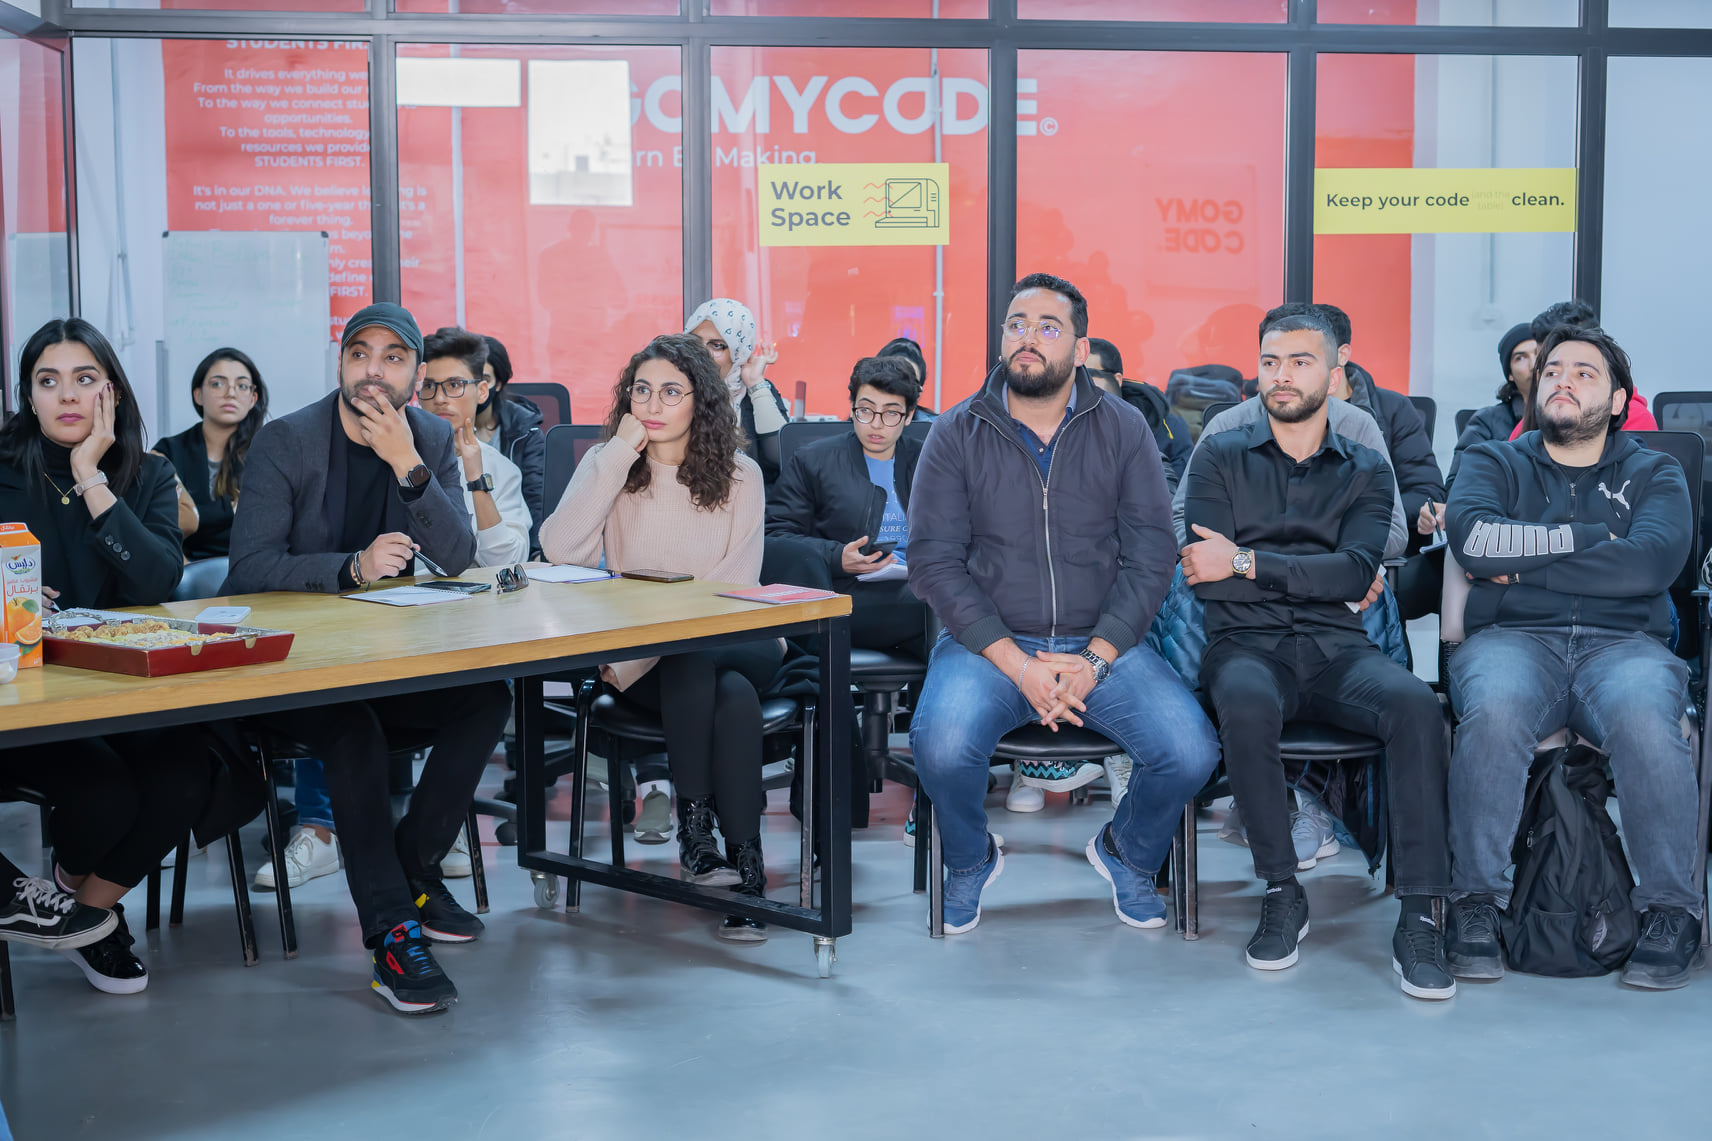without_mask: (30, 360, 107, 432), (1547, 354, 1609, 426), (1004, 309, 1068, 380), (1261, 343, 1321, 415), (347, 338, 410, 403), (630, 375, 688, 436), (858, 394, 908, 448), (199, 376, 258, 419)
